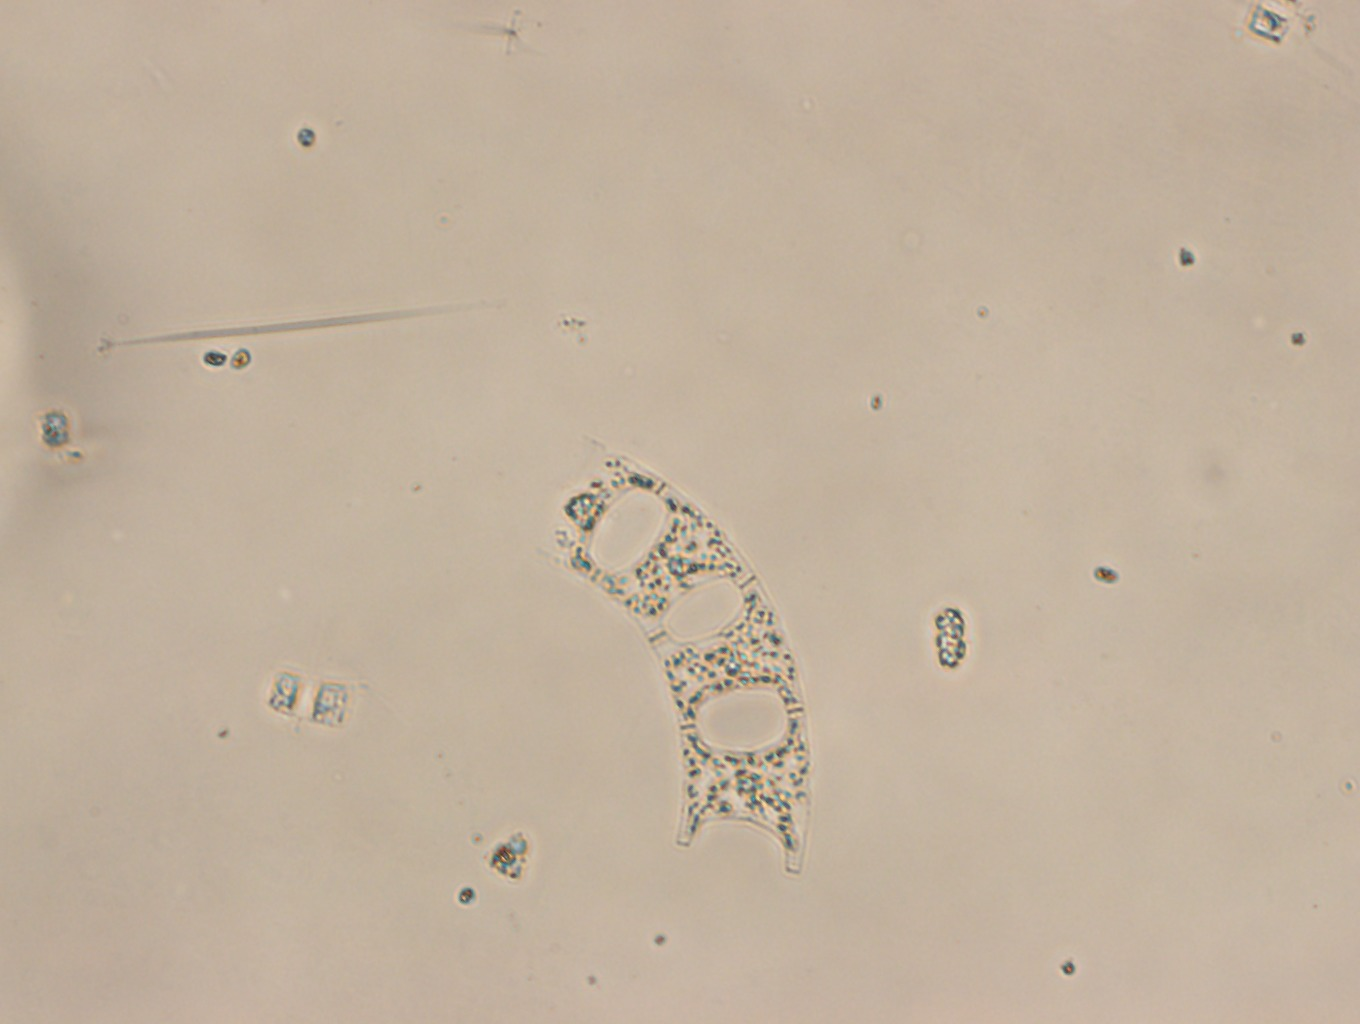eucampia: (539, 441, 814, 883)
skeletonema: (268, 667, 363, 733)
